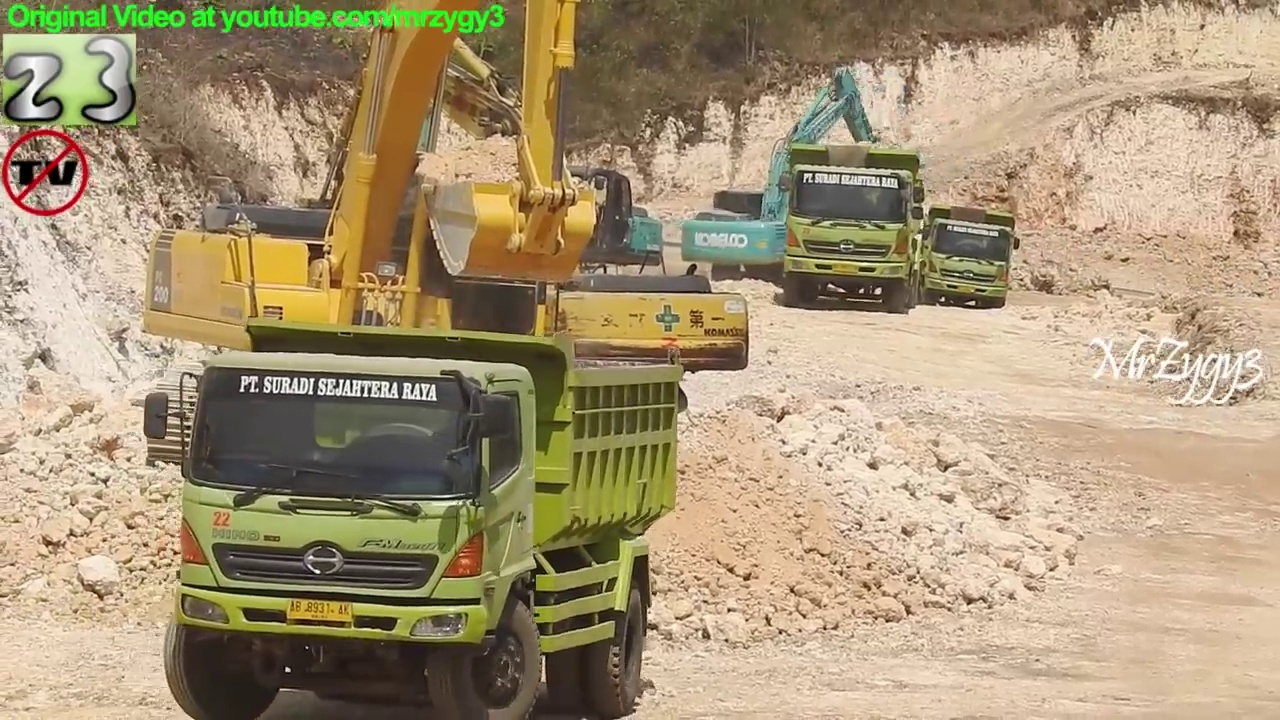excavator: (133, 1, 688, 492), (217, 1, 757, 437), (331, 1, 675, 309), (678, 62, 903, 299)
truck: (140, 307, 693, 720), (772, 134, 931, 323), (907, 198, 1024, 317)
